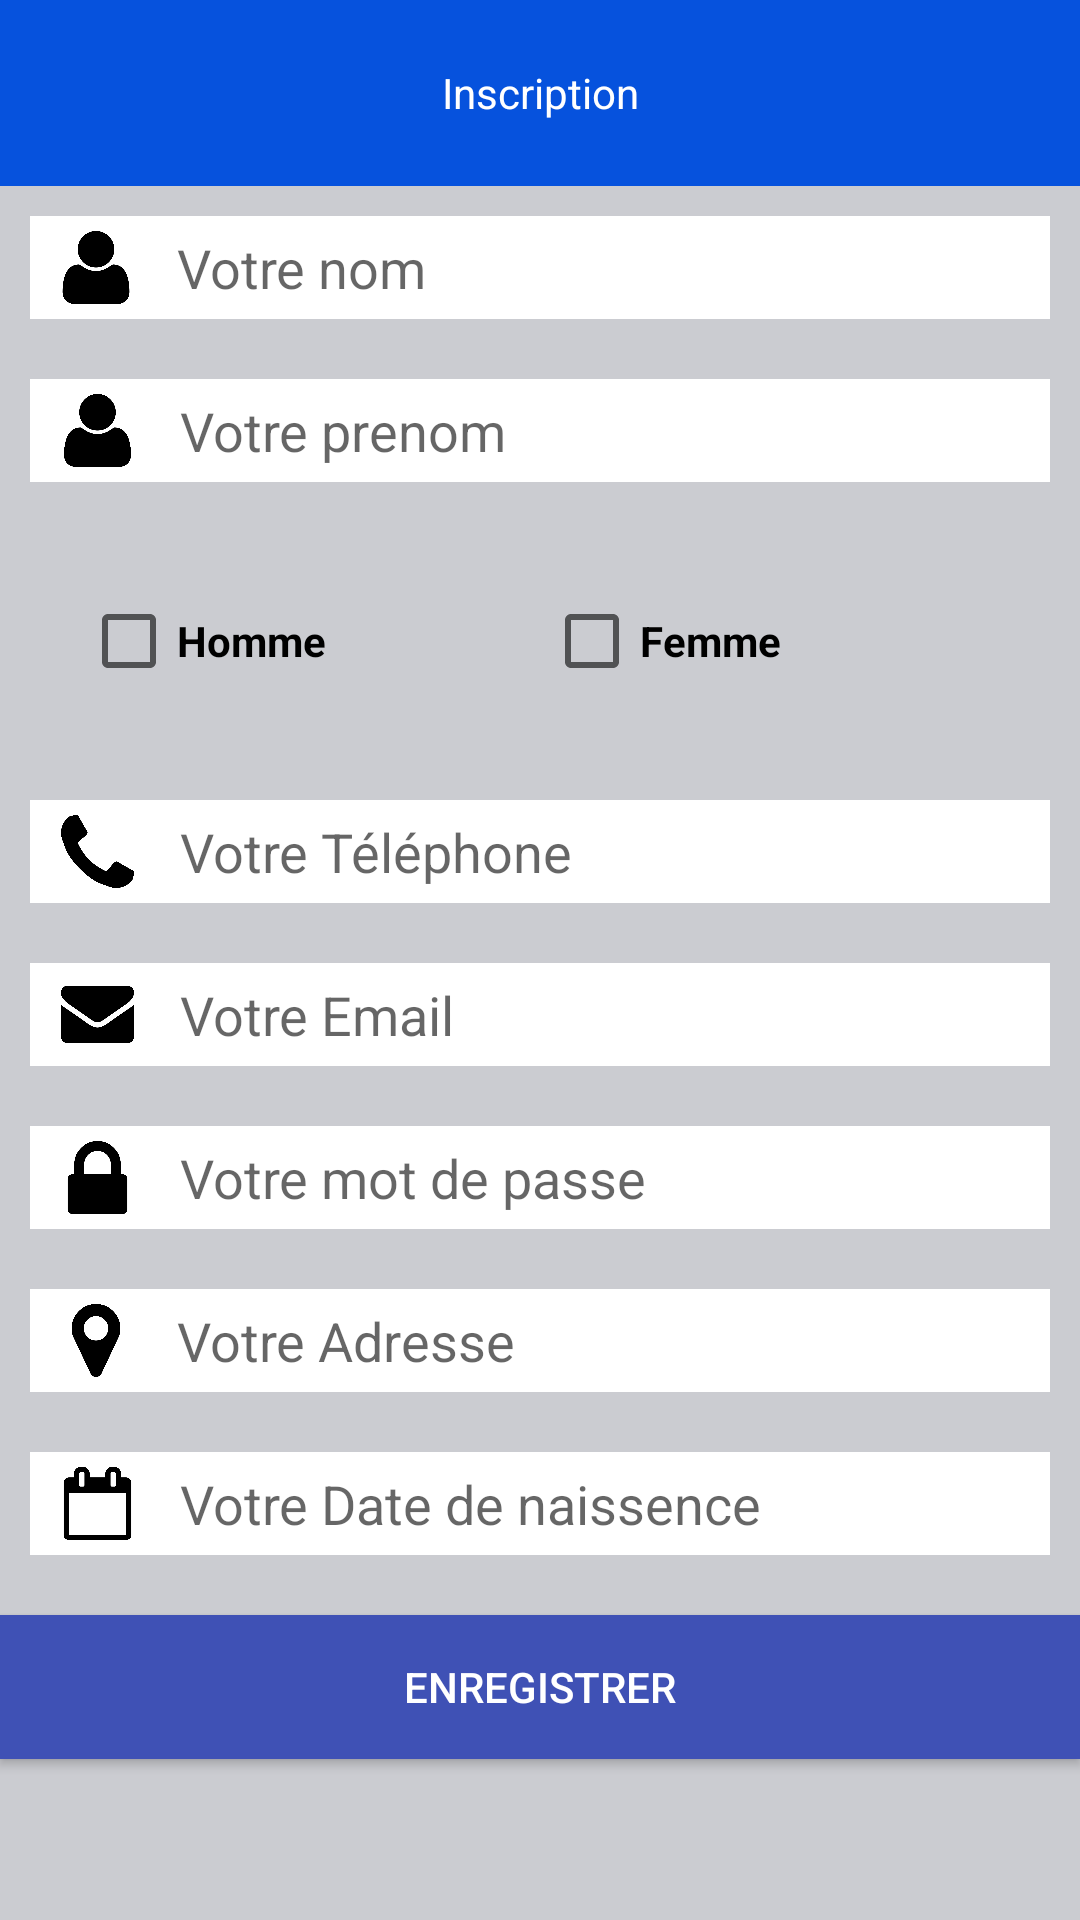

Named icons in this screenshot (1080 x 1920) and their centers, (x,y):
calendar: (97,1503)
telephone: (97,851)
usershape: (96,267), (97,430)
